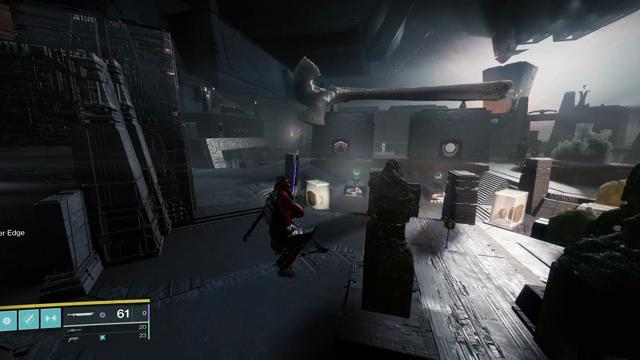commune: (491, 118, 499, 126)
pyramid: (334, 141, 348, 154)
traveler: (442, 142, 458, 157)
